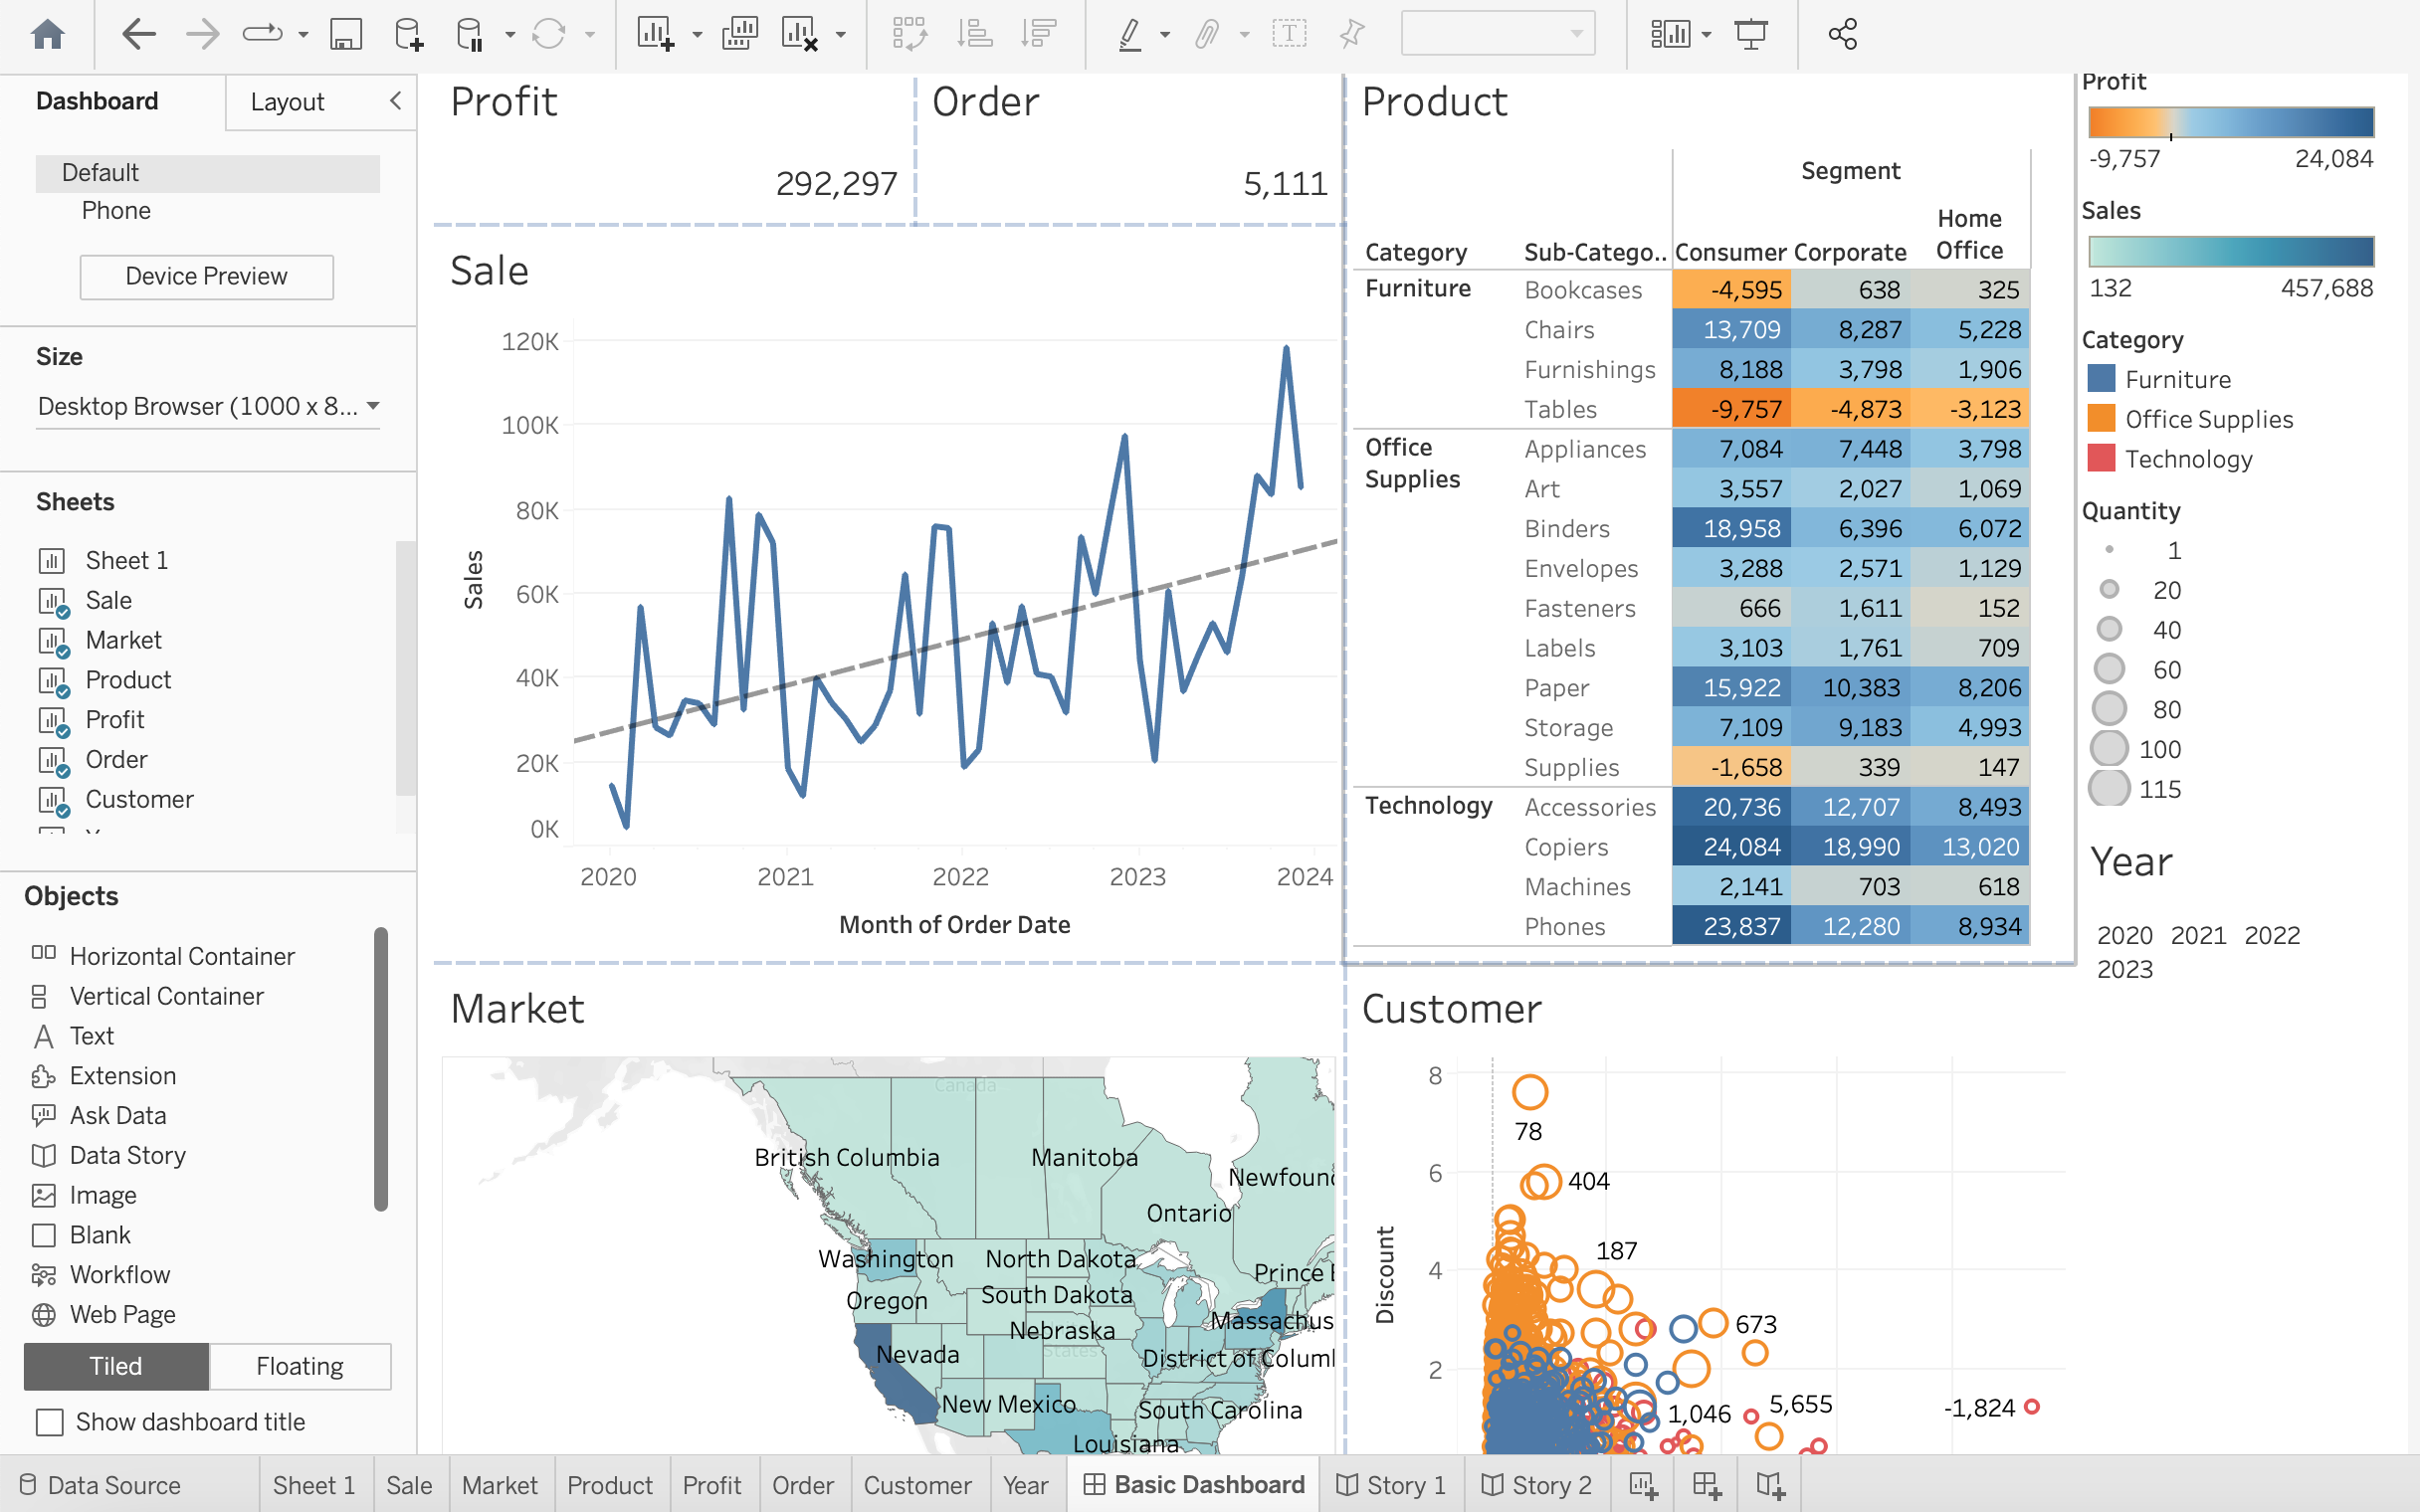

This screenshot's page, from the dashboard's own definition file:
{"tool":"tableau","page":{"name":"Basic Dashboard","canvas":[1000,800],"ordinal":0},"visuals":[{"type":"worksheet","title":"Profit","mark":"Automatic","box":[8,8,242,85]},{"type":"worksheet","title":"Order","mark":"Automatic","box":[250,8,216,85]},{"type":"worksheet","title":"Product","mark":"Square","rows":["Category","Sub-Category"],"cols":["Segment"],"box":[466,8,366,456]},{"type":"legend","title":"Product","param":"[Sample - Superstore].[sum:Profit:qk]","box":[832,8,160,65]},{"type":"legend","title":"Market","param":"[Sample - Superstore].[sum:Sales:qk]","box":[832,73,160,65]},{"type":"worksheet","title":"Sale","mark":"Automatic","rows":["Sales"],"cols":["Order Date"],"box":[8,93,458,371]},{"type":"legend","title":"Customer","param":"[Sample - Superstore].[none:Category:nk]","box":[832,138,160,86]},{"type":"legend","title":"Customer","param":"[Sample - Superstore].[sum:Quantity:qk]","box":[832,224,160,166]},{"type":"worksheet","title":"Year","mark":"Automatic","box":[832,390,160,402]},{"type":"worksheet","title":"Market","mark":"Automatic","box":[8,464,458,328]},{"type":"worksheet","title":"Customer","mark":"Automatic","rows":["Discount"],"cols":["Sales"],"box":[466,464,366,328]}]}

Visuals, with their boxes on the page's 1000x800 design canvas (x1, y1, x2, y2). These are canvas units, not pixel positions in the 2420x1512 screenshot, which may show the page scaled, cropped or inside an application window:
"Profit" worksheet: x1=8 y1=8 x2=250 y2=93
"Order" worksheet: x1=250 y1=8 x2=466 y2=93
"Product" worksheet (Square marks): x1=466 y1=8 x2=832 y2=464
"Product" legend: x1=832 y1=8 x2=992 y2=73
"Market" legend: x1=832 y1=73 x2=992 y2=138
"Sale" worksheet: x1=8 y1=93 x2=466 y2=464
"Customer" legend: x1=832 y1=138 x2=992 y2=224
"Customer" legend: x1=832 y1=224 x2=992 y2=390
"Year" worksheet: x1=832 y1=390 x2=992 y2=792
"Market" worksheet: x1=8 y1=464 x2=466 y2=792
"Customer" worksheet: x1=466 y1=464 x2=832 y2=792
